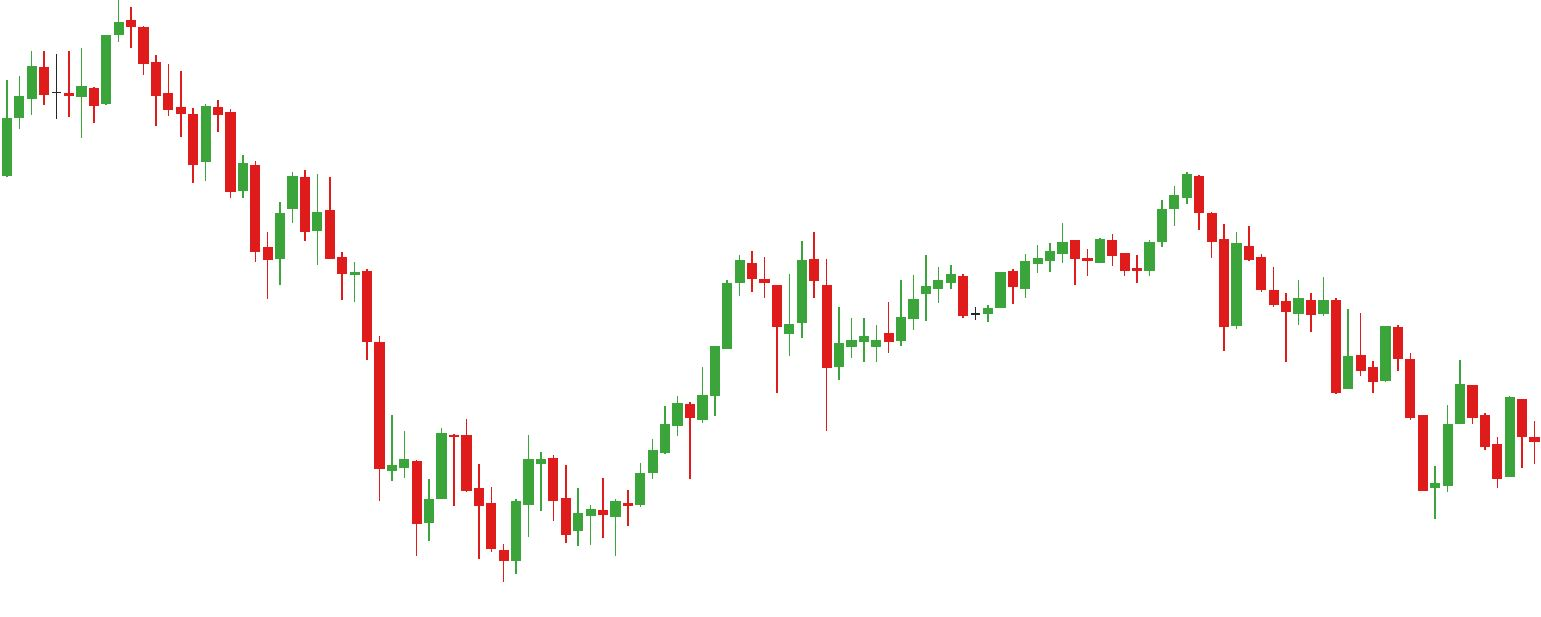buy: (410, 447, 524, 581), (770, 292, 845, 429)
sell: (36, 1, 148, 100)
